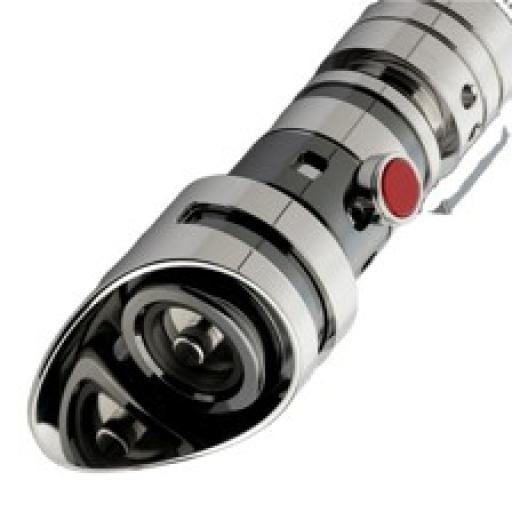lightsaber: (25, 0, 512, 470)
